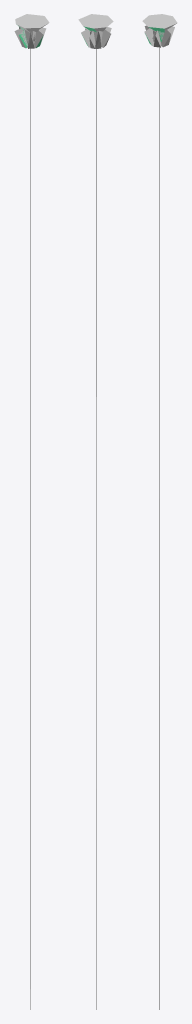
Rendered from floaty07.fbx.
3 views of the same model, side by side, from view 1: azimuth 90°, elevation 25°; view 2: azimuth 150°, elevation 25°; view 3: azimuth 330°, elevation 25° (orthographic).
Visible parts, largest first — view 1: Cylinder.001, Cone; view 2: Cylinder.001, Cone; view 3: Cylinder.001, Cone.
Boxes of the visible parts, x1,y1,x2,y2 form: Cylinder.001: (30, 48, 30, 1009); Cone: (14, 14, 49, 48); Cylinder.001: (96, 49, 96, 1009); Cone: (78, 14, 113, 48); Cylinder.001: (159, 47, 159, 1009); Cone: (142, 14, 177, 47).
Size of the model in its own units: 1402 by 43406 by 1401.
